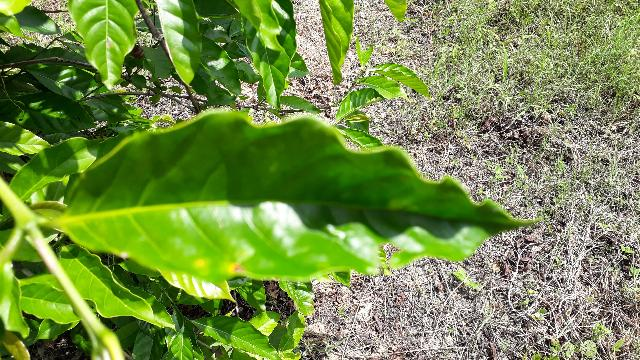rust_level_1: (62, 112, 543, 284)
